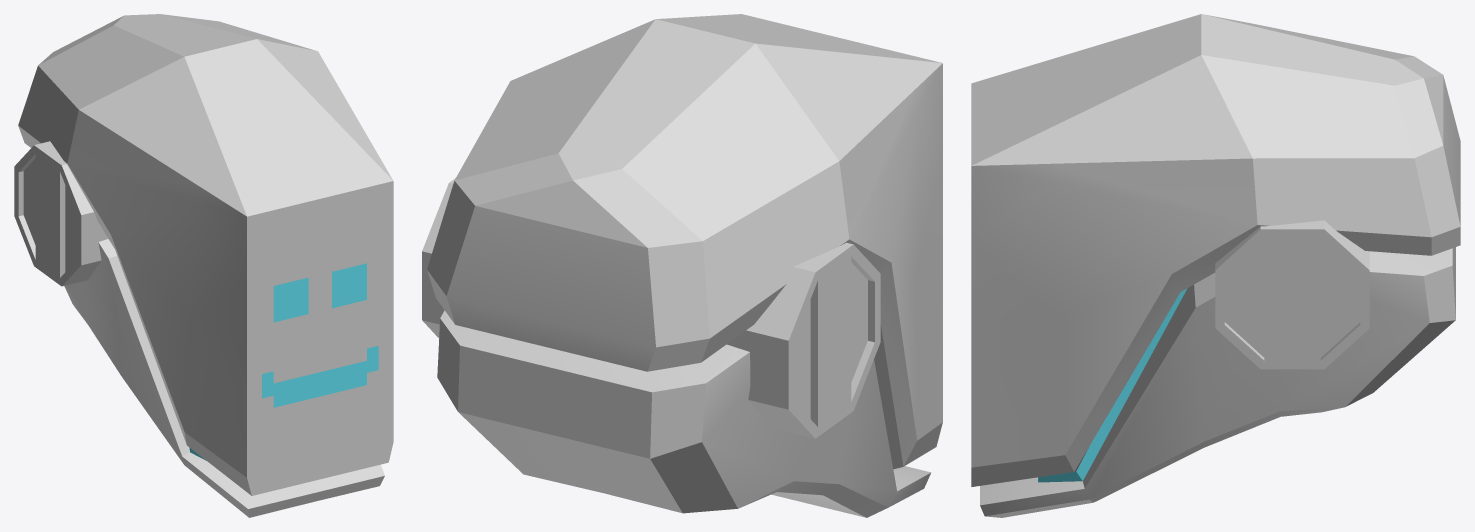
The model's file is Head_Idol.fbx.
3 renders of one model, left to right at view 1: azimuth 30°, elevation 25°; view 2: azimuth 150°, elevation 25°; view 3: azimuth 270°, elevation 25°, orthographic. The views are drawn at different scales.
Parts seen in each view (by area): view 1: Head_Idol; view 2: Head_Idol; view 3: Head_Idol.
Part boxes in pixels (x1,y1,x2,y2): Head_Idol: (14,14,393,517); Head_Idol: (422,14,942,517); Head_Idol: (971,14,1460,517).
Size of the model in its own units: 256 by 359 by 351.
